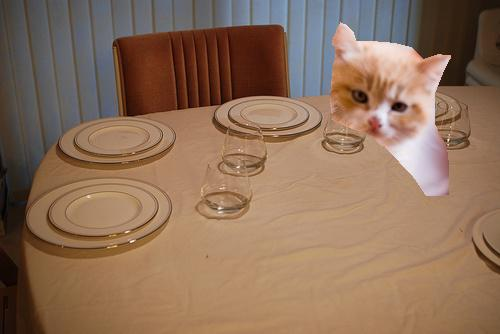tampered: (331, 23, 451, 196)
